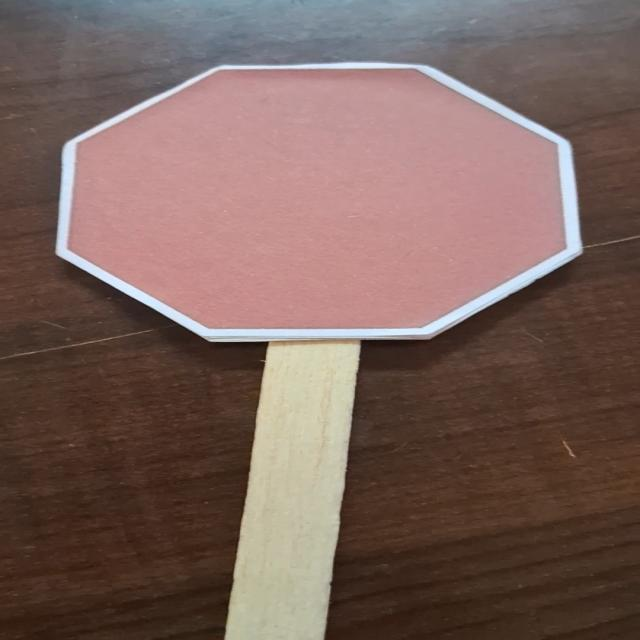Stop: (42, 59, 592, 350)
